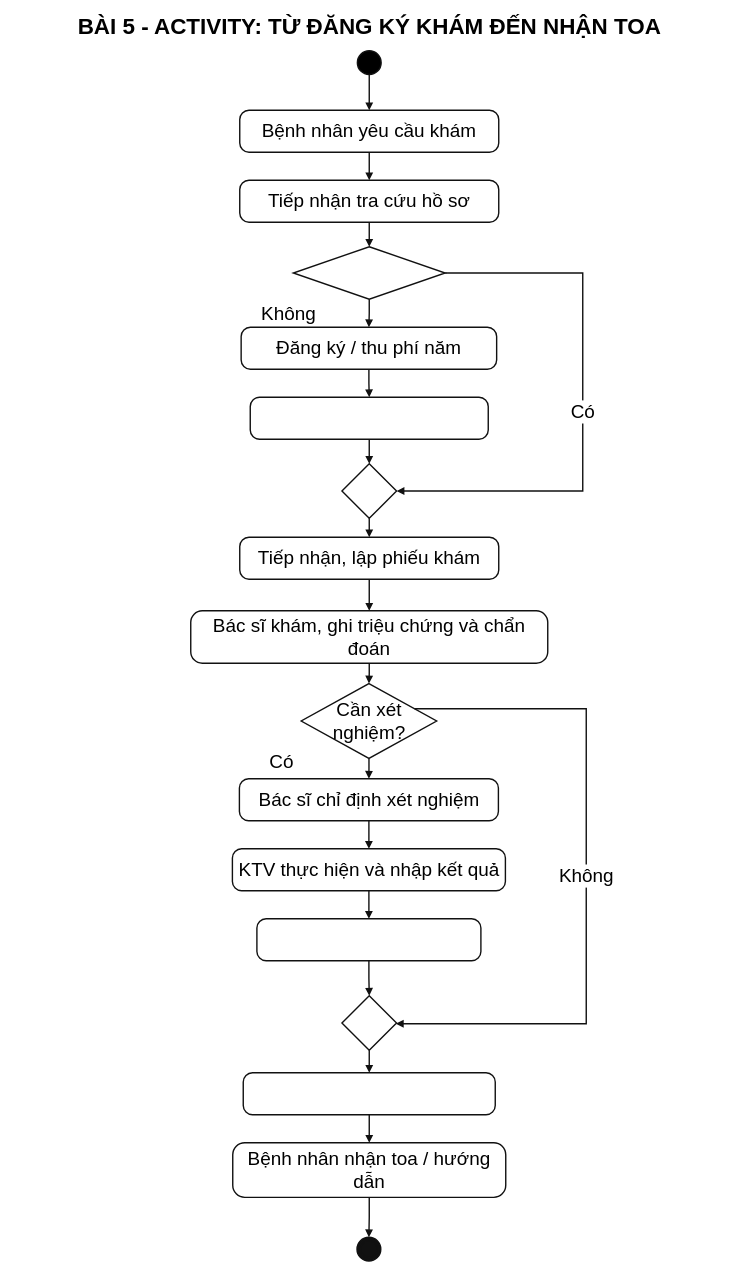
Some shapes in this 738 by 1273 pixel diagram are drawn without their labels. Each missing label, with the centre of its shape:
Bác sĩ kê toa theo chỉ định: the point at 369,1093
Bác sĩ đọc kết quả: the point at 368,939
Cấp hồ sơ bệnh án: the point at 369,418
Đã có hồ sơ?: the point at 369,273
